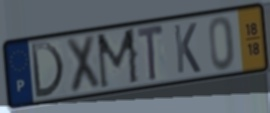0: (207, 14, 237, 73)
D: (29, 40, 66, 100)
K: (172, 21, 203, 76)
M: (95, 26, 142, 92)
T: (135, 22, 166, 85)
X: (64, 33, 102, 96)
